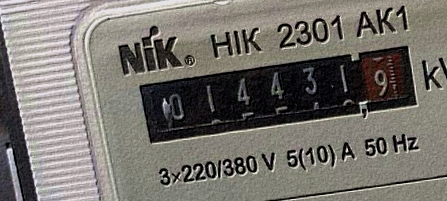0: (165, 89, 189, 124)
1: (200, 80, 222, 115), (336, 62, 352, 95)
3: (299, 65, 322, 99)
4: (231, 74, 255, 109), (265, 68, 287, 103)
9: (371, 66, 391, 98)
screen: (130, 37, 432, 153)
